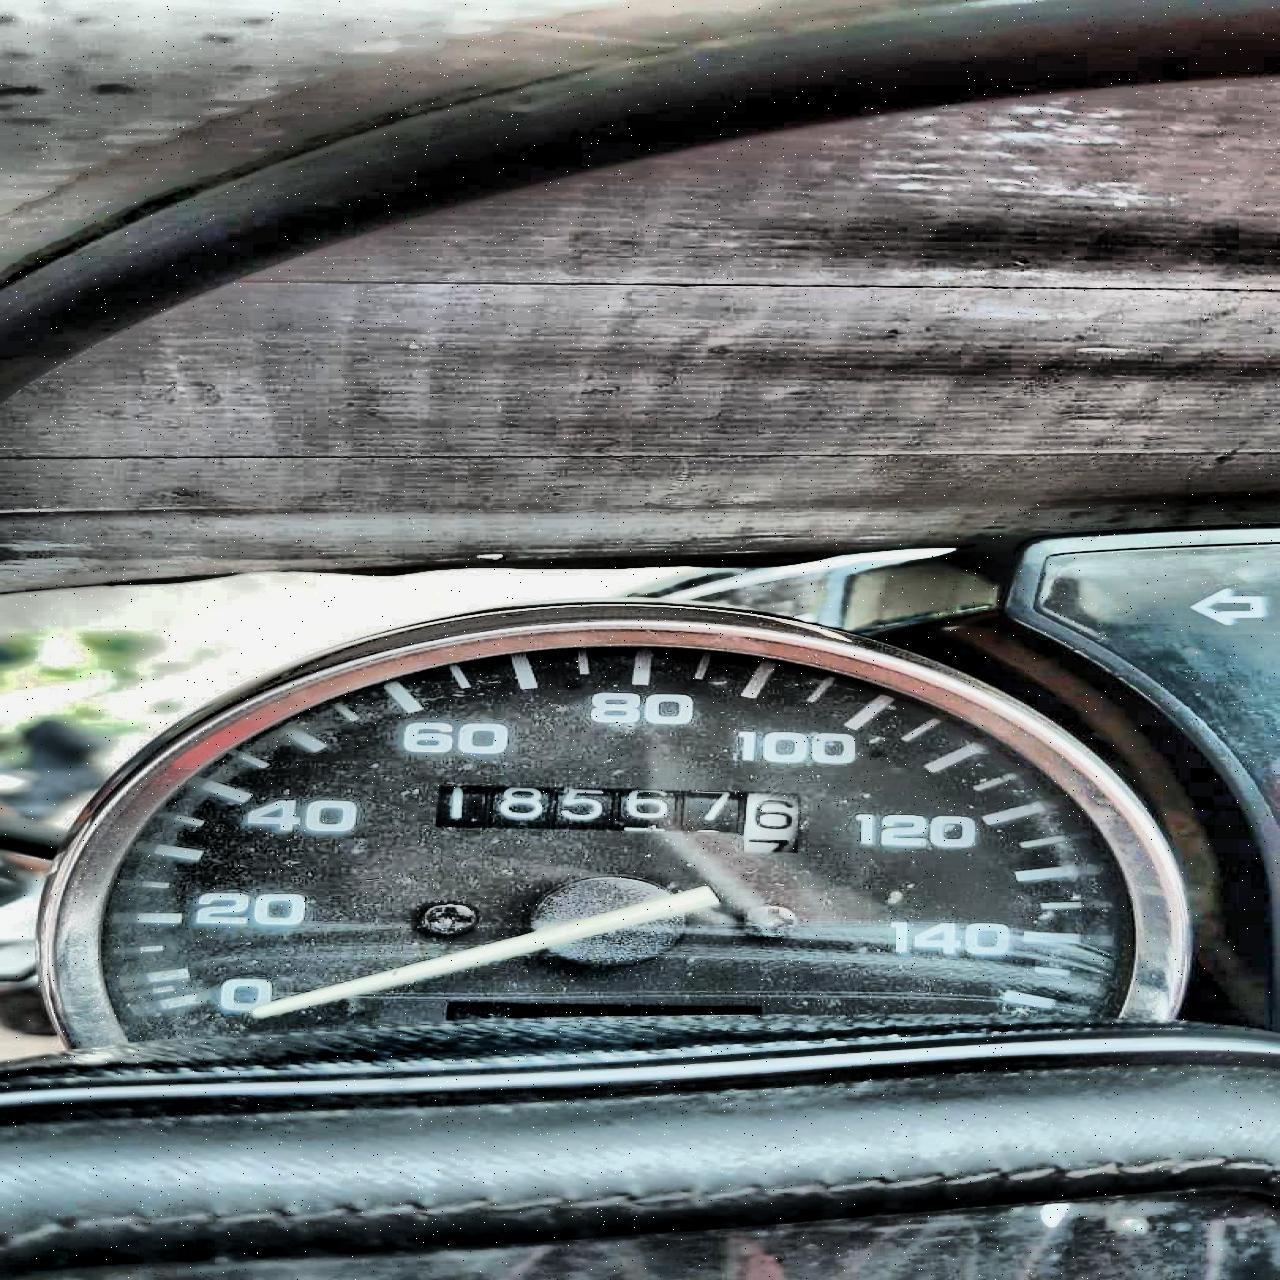1: (444, 784, 474, 828)
5: (559, 784, 607, 823)
6: (750, 794, 802, 832), (621, 788, 673, 822)
7: (687, 787, 735, 822)
8: (495, 783, 546, 819)
odometer: (428, 779, 812, 858)
